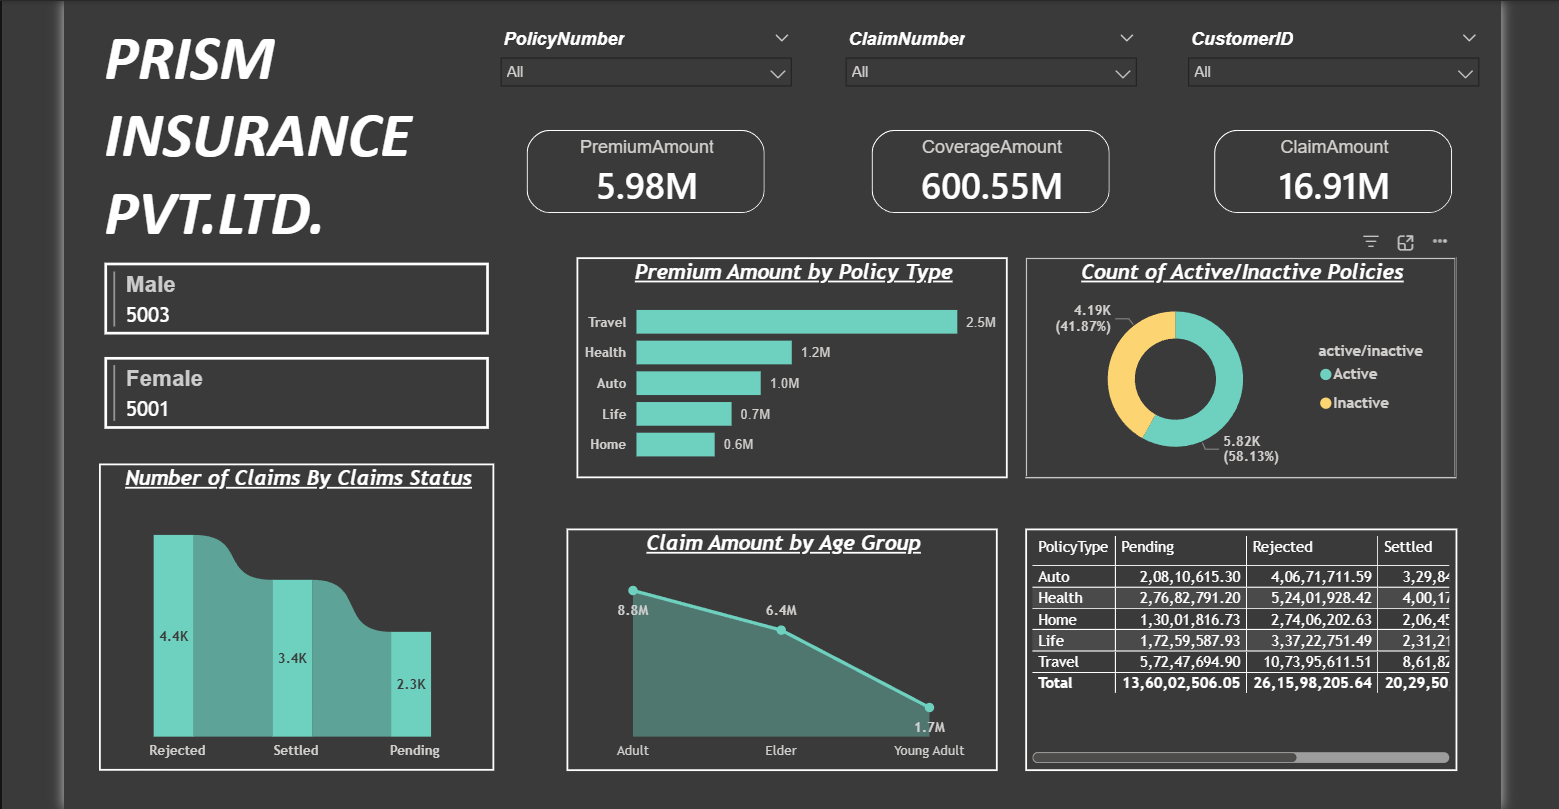

This screenshot's page, from the dashboard's own definition file:
{"tool":"powerbi","page":{"name":"Page 1","canvas":[1280,720],"ordinal":0},"visuals":[{"type":"slicer","fields":{"Values":["InsuranceData.PolicyNumber"]},"box":[379,20.5,279.9,77.2],"z":0},{"type":"slicer","fields":{"Values":["InsuranceData.CustomerID"]},"box":[990.7,20.5,279.9,77.2],"z":1000},{"type":"slicer","fields":{"Values":["InsuranceData.ClaimNumber"]},"box":[685.5,20.5,279.9,77.2],"z":2000},{"type":"textbox","box":[31.4,10.9,304,217.2],"z":3000},{"type":"cardVisual","fields":{"Data":["Sum(InsuranceData.PremiumAmount)"]},"box":[395.7,97.7,246.1,108.6],"z":4000},{"type":"cardVisual","fields":{"Data":["Sum(InsuranceData.ClaimAmount)"]},"box":[1007.4,97.7,246.1,108.6],"z":5000},{"type":"cardVisual","fields":{"Data":["Sum(InsuranceData.CoverageAmount)"]},"box":[702.1,97.7,246.1,108.6],"z":6000},{"type":"ribbonChart","title":"Number of Claims By Claims Status","fields":{"Category":["InsuranceData.ClaimStatus"],"Y":["CountNonNull(InsuranceData.ClaimStatus)"]},"box":[31.4,411.4,352.3,273.9],"z":7000},{"type":"multiRowCard","fields":{"Values":["CountNonNull(InsuranceData.Gender)","InsuranceData.Gender"]},"box":[31.4,228,352.3,183.4],"z":8000},{"type":"barChart","title":"Premium Amount by Policy Type","fields":{"Category":["InsuranceData.PolicyType"],"Y":["Sum(InsuranceData.PremiumAmount)"]},"box":[456,228,383.6,196.7],"z":9000},{"type":"lineChart","title":"Claim Amount by Age Group","fields":{"Category":["InsuranceData.Age Group"],"Y":["Sum(InsuranceData.ClaimAmount)"]},"box":[447.6,469.3,383.6,215.9],"z":10000},{"type":"donutChart","title":"Count of Active/Inactive Policies","fields":{"Y":["CountNonNull(InsuranceData.active/inactive)"],"Series":["InsuranceData.active/inactive"]},"box":[856.6,228,383.6,196.7],"z":11000},{"type":"pivotTable","fields":{"Values":["Sum(InsuranceData.CoverageAmount)"],"Rows":["InsuranceData.PolicyType"],"Columns":["InsuranceData.ClaimStatus"]},"box":[856.6,469.3,384.9,215.9],"z":12000}]}

Visuals, with their boxes on the page's 1280x720 design canvas (x1, y1, x2, y2). These are canvas units, not pixel positions in the 1559x809 screenshot, which may show the page scaled, cropped or inside an application window:
slicer - InsuranceData.PolicyNumber: l=379, t=20, r=659, b=98
slicer - InsuranceData.CustomerID: l=991, t=20, r=1271, b=98
slicer - InsuranceData.ClaimNumber: l=686, t=20, r=965, b=98
textbox: l=31, t=11, r=335, b=228
cardVisual - Sum(InsuranceData.PremiumAmount): l=396, t=98, r=642, b=206
cardVisual - Sum(InsuranceData.ClaimAmount): l=1007, t=98, r=1254, b=206
cardVisual - Sum(InsuranceData.CoverageAmount): l=702, t=98, r=948, b=206
"Number of Claims By Claims Status" ribbonChart: l=31, t=411, r=384, b=685
multiRowCard - CountNonNull(InsuranceData.Gender) x InsuranceData.Gender: l=31, t=228, r=384, b=411
"Premium Amount by Policy Type" barChart: l=456, t=228, r=840, b=425
"Claim Amount by Age Group" lineChart: l=448, t=469, r=831, b=685
"Count of Active/Inactive Policies" donutChart: l=857, t=228, r=1240, b=425
pivotTable - Sum(InsuranceData.CoverageAmount) x InsuranceData.PolicyType: l=857, t=469, r=1242, b=685
